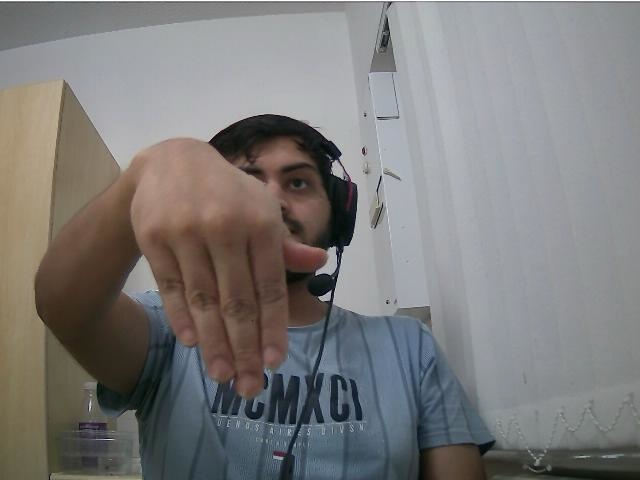down: (138, 139, 289, 400)
